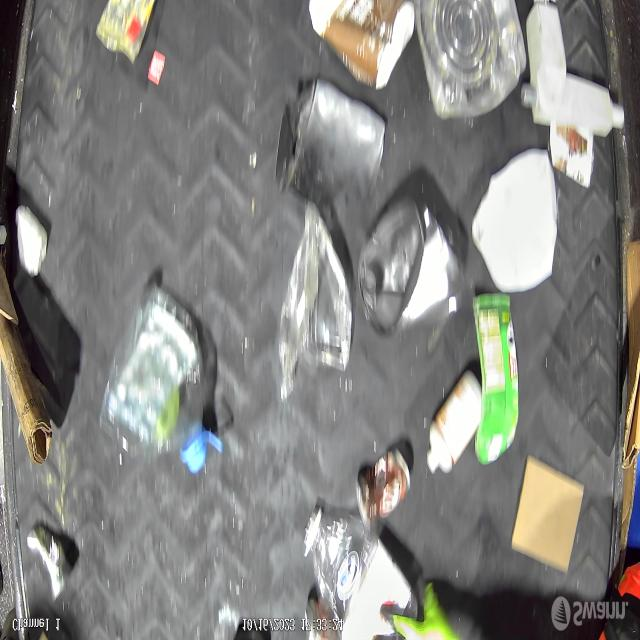can: (357, 435, 410, 533)
milk_jug: (469, 147, 565, 295)
plastic_bottle: (99, 280, 212, 475), (298, 504, 411, 640)
